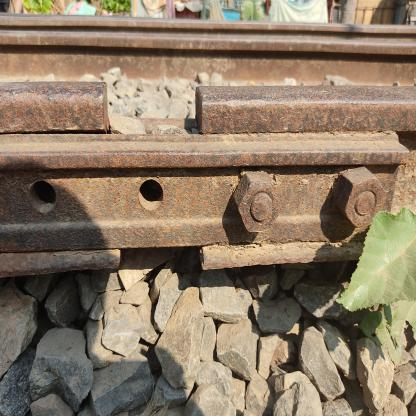Defective 2: (67, 73, 249, 161)
Defective 3: (0, 127, 415, 278)
